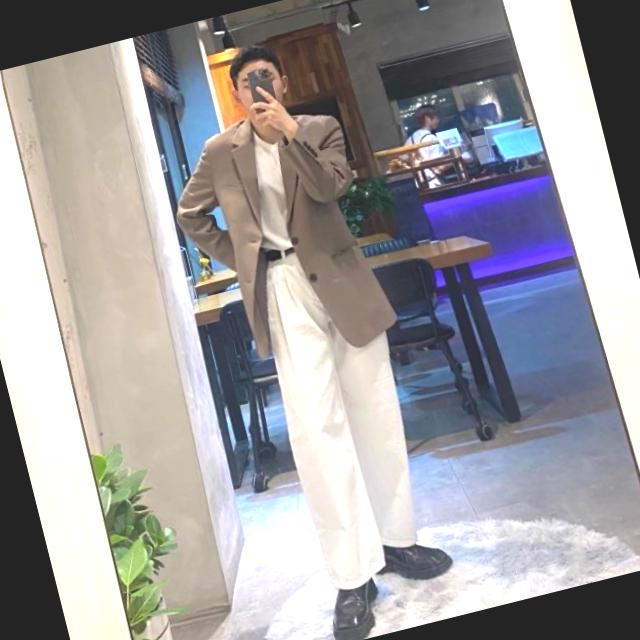blazer: (156, 87, 404, 380)
cottonpants: (248, 232, 445, 600)
